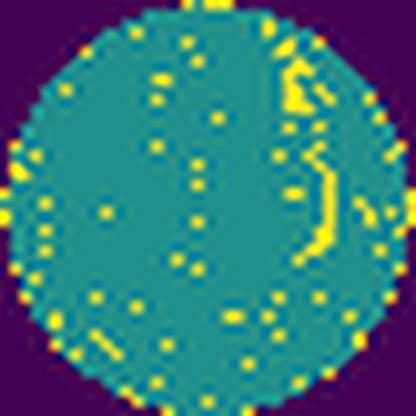Scratch: (290, 138, 340, 276)
